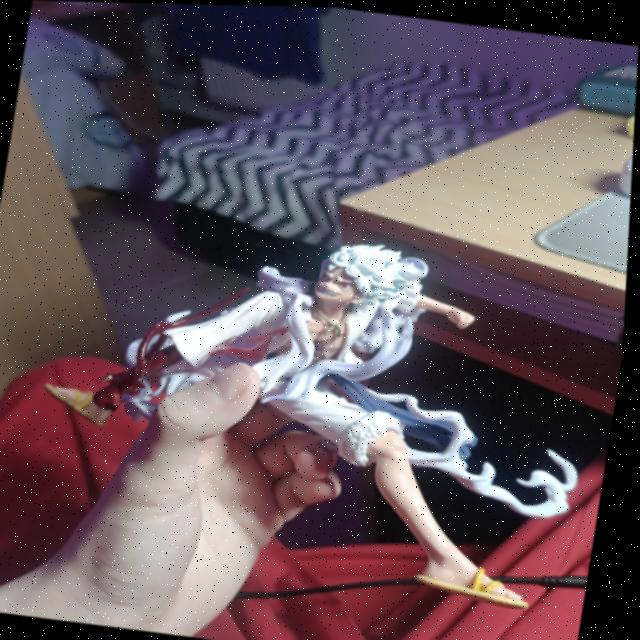luffy: (0, 186, 615, 640)
